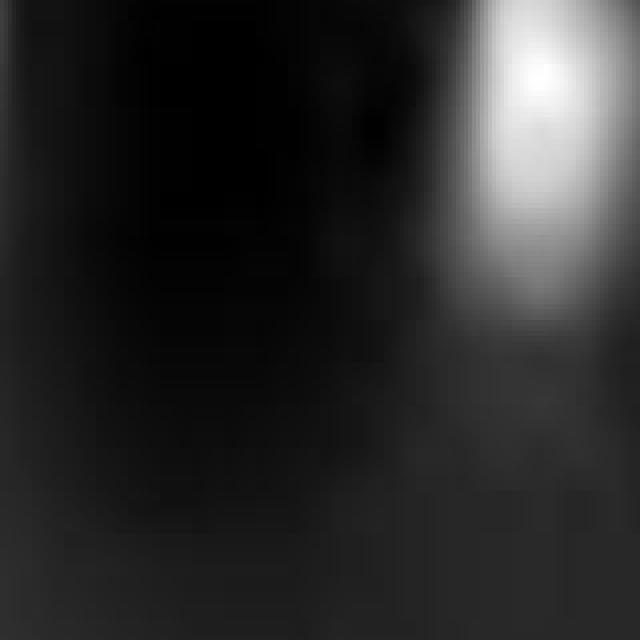person: (393, 1, 640, 385)
